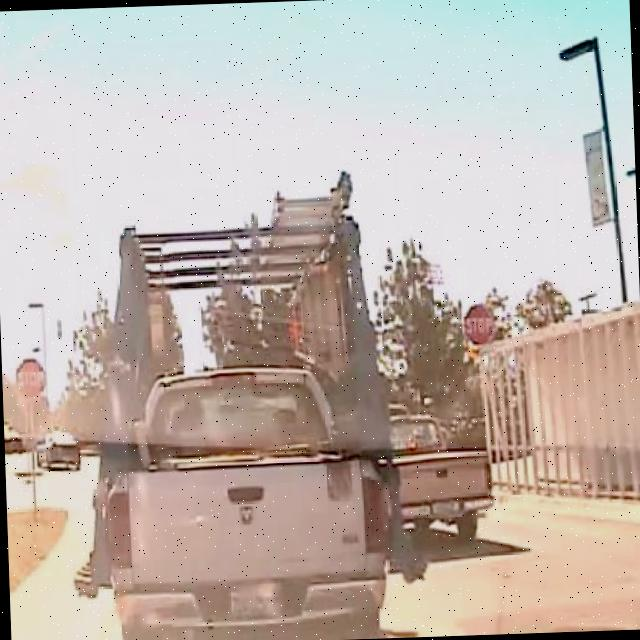Stop: (13, 357, 48, 398), (462, 302, 496, 344)
